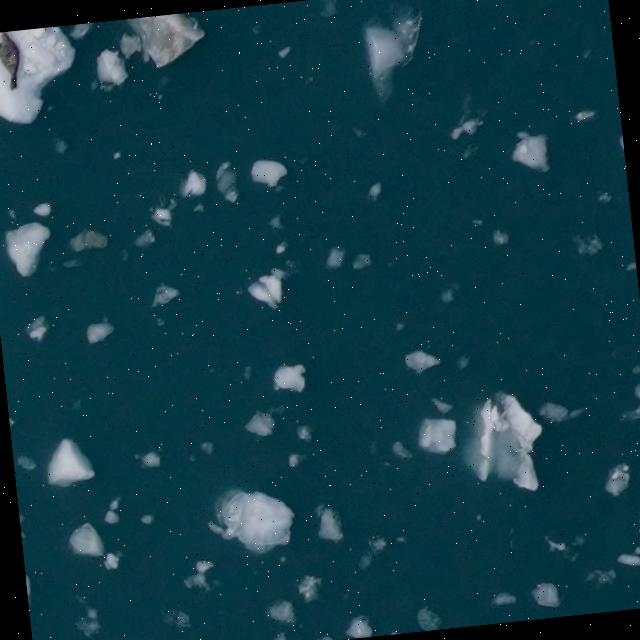seal: (0, 31, 21, 90)
